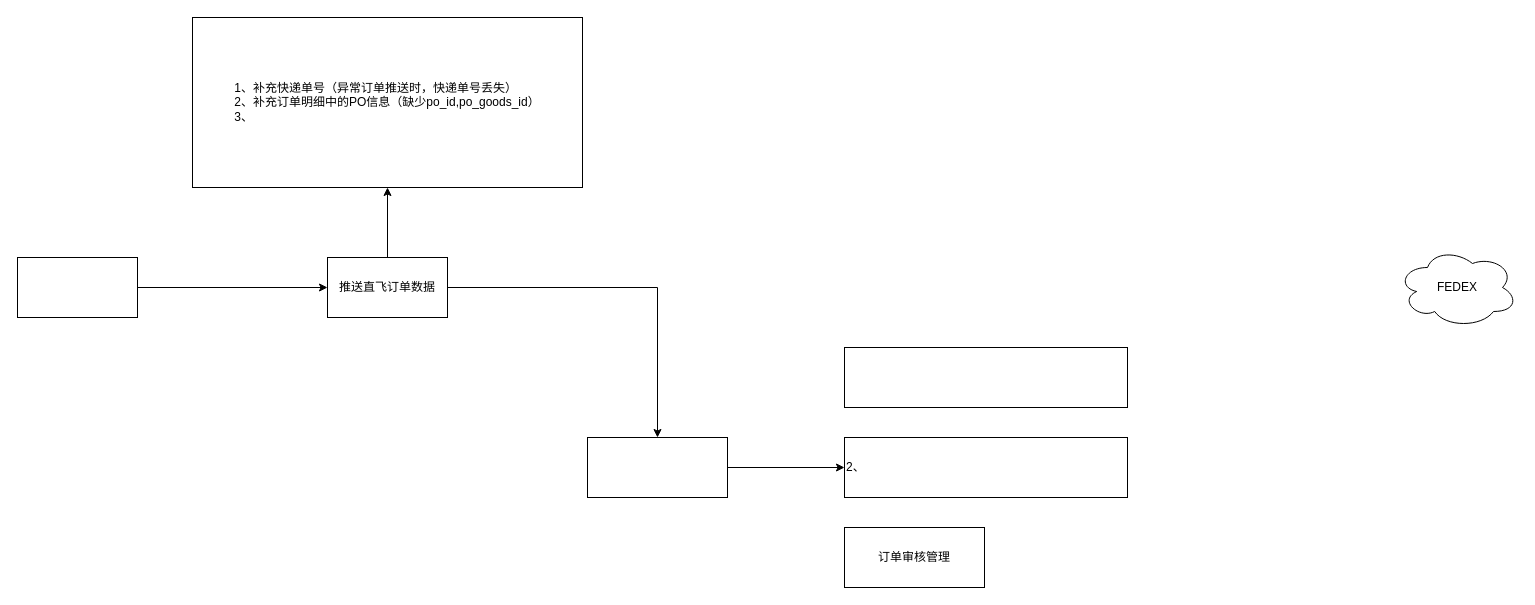
Image size: 1535x605. Some labels were removed from this diagram. The centre of each missing label's shape, as x and y in pixels:
1、拆单规则重构（按有信达给的规则来）: point (986, 377)
广州理货（物流端）: point (77, 287)
订单审核管理（关务端）: point (657, 467)
